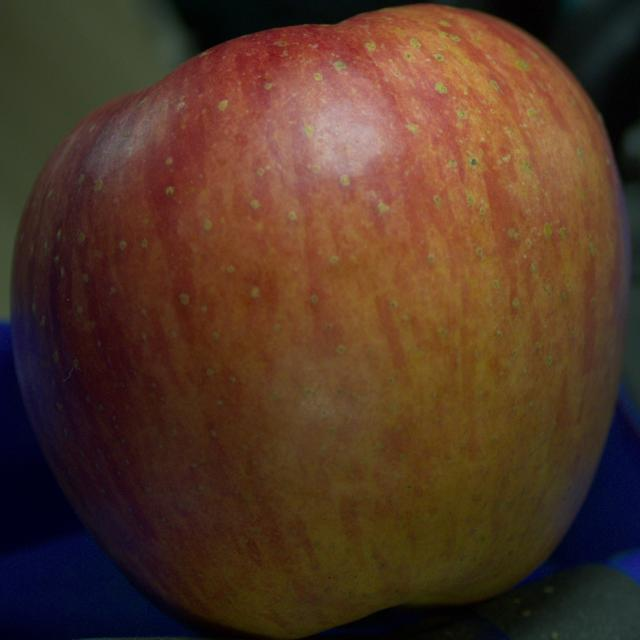apple: (11, 5, 631, 638)
